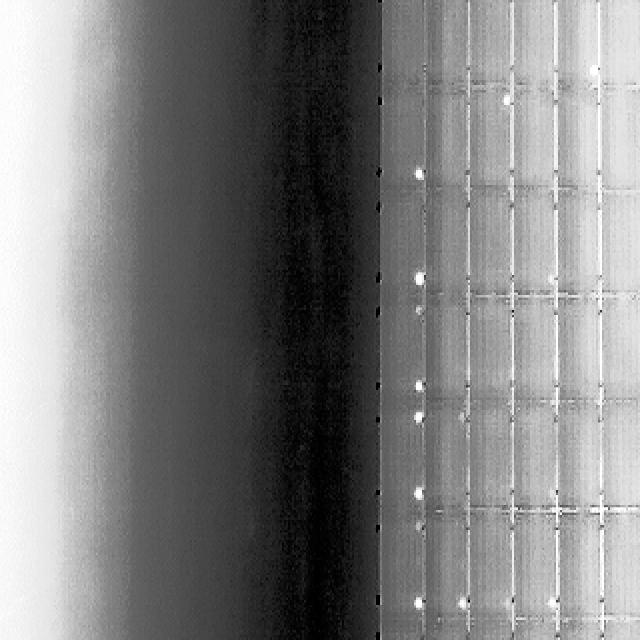Hotspots: (447, 590, 467, 614), (584, 59, 601, 84), (412, 267, 427, 292), (497, 90, 513, 112), (411, 160, 426, 182), (410, 406, 426, 426), (545, 270, 558, 294), (413, 374, 428, 394), (542, 592, 557, 612), (415, 483, 427, 506), (416, 589, 426, 612), (500, 592, 508, 608)
PV-modules: (382, 0, 465, 90), (420, 513, 470, 626), (420, 296, 471, 406), (420, 404, 470, 512), (419, 188, 467, 298), (466, 511, 513, 622), (514, 512, 560, 623), (514, 401, 560, 510), (555, 187, 601, 296), (465, 192, 510, 303), (556, 513, 602, 621), (555, 405, 601, 513), (514, 192, 559, 302), (466, 403, 512, 510), (381, 191, 425, 300), (377, 302, 421, 411), (554, 298, 600, 402), (378, 88, 423, 194), (377, 516, 421, 624), (514, 294, 558, 402), (377, 406, 421, 514), (555, 88, 601, 190), (466, 294, 509, 402), (421, 89, 466, 192), (512, 88, 558, 188), (469, 88, 514, 188), (600, 295, 640, 403), (600, 187, 640, 295), (600, 405, 640, 510), (600, 85, 640, 190), (423, 1, 469, 91), (602, 510, 640, 618), (555, 0, 601, 89), (378, 0, 425, 87), (513, 1, 558, 90), (469, 2, 513, 90), (596, 0, 640, 85), (556, 620, 602, 640), (462, 622, 510, 640), (514, 622, 560, 640), (380, 622, 424, 640), (420, 625, 470, 640), (600, 622, 640, 640)
